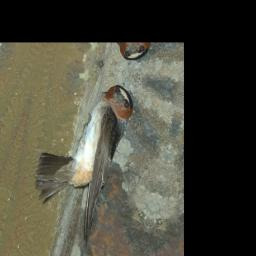Swallow: (22, 63, 139, 250)
